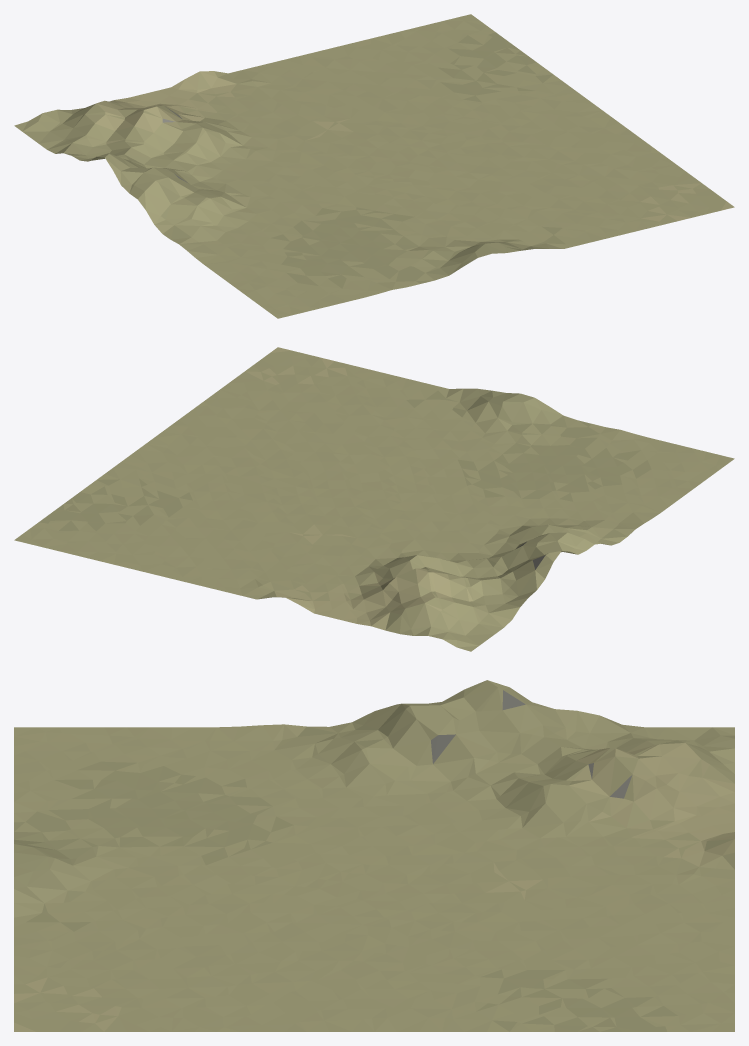
The model's file is Ground_1_3.glb.
3 views of the same model, one above another, from view 1: azimuth 30°, elevation 25°; view 2: azimuth 150°, elevation 25°; view 3: azimuth 270°, elevation 25° (orthographic). The views are drawn at different scales.
Visible parts, largest first — view 1: Ground_1_3; view 2: Ground_1_3; view 3: Ground_1_3.
Boxes of the visible parts, <box> form: Ground_1_3: <box>14,14,734,318</box>; Ground_1_3: <box>14,347,734,651</box>; Ground_1_3: <box>14,680,734,1031</box>.
Bounding box in the file's own units: 768 × 55.49 × 768.
